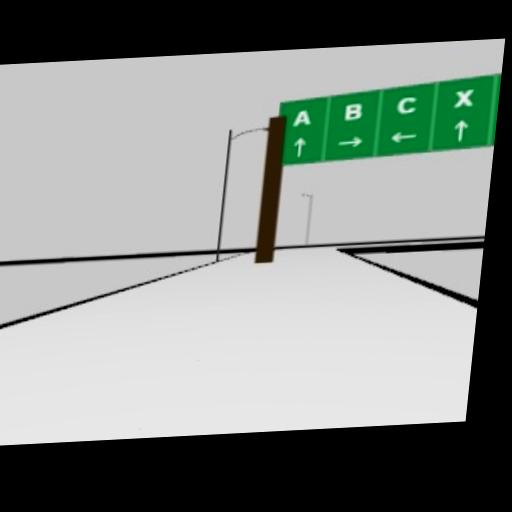A: (292, 107, 312, 126)
B: (343, 101, 363, 119)
C: (396, 95, 418, 114)
Left: (388, 129, 417, 142)
Right: (337, 135, 364, 149)
Straight: (451, 118, 469, 140), (291, 134, 306, 155)
X: (452, 87, 475, 106)
